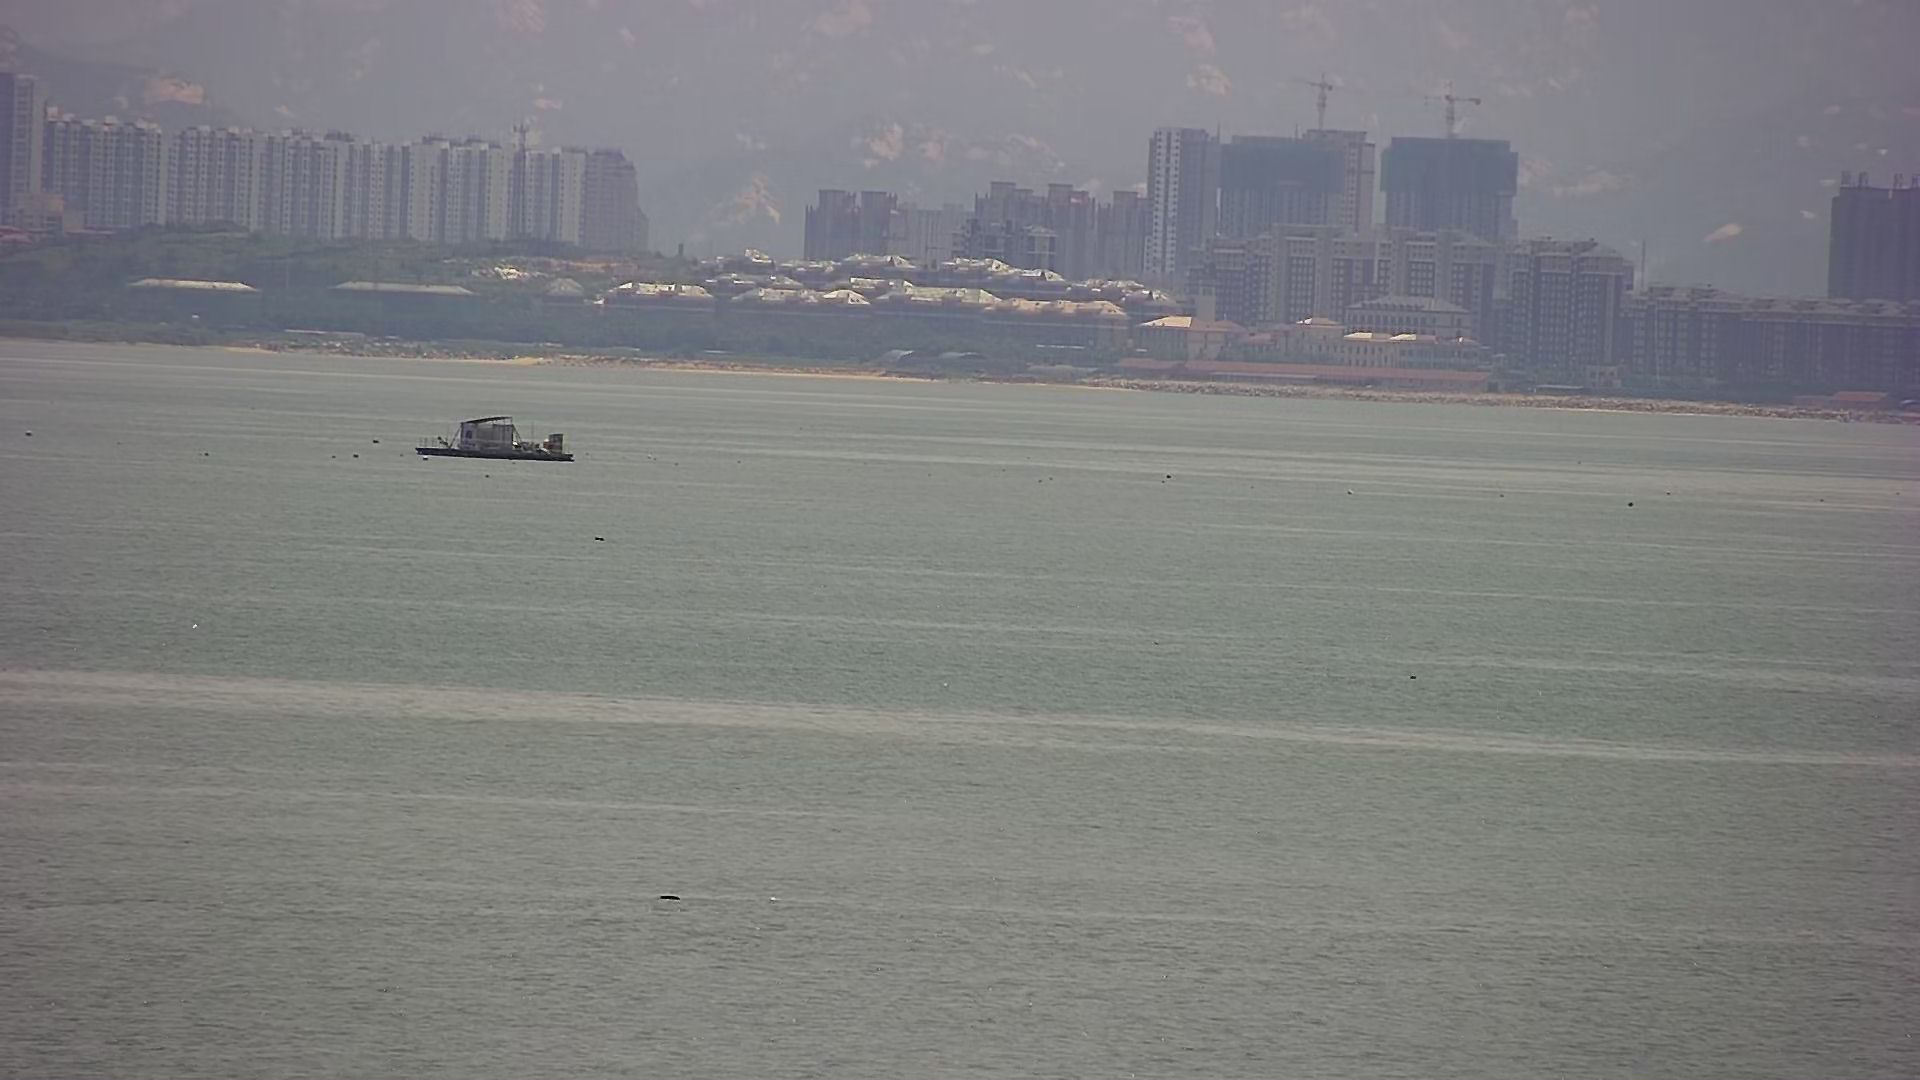platform: (411, 415, 575, 464)
